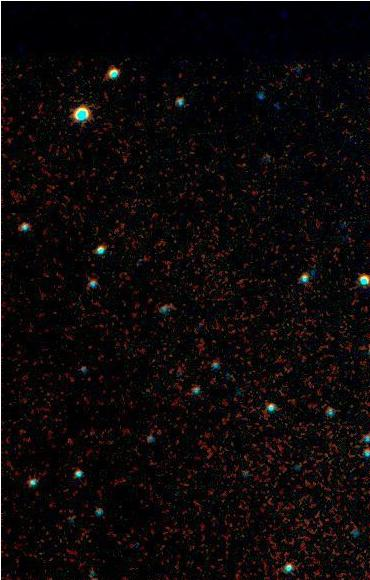star: (108, 287, 138, 317)
